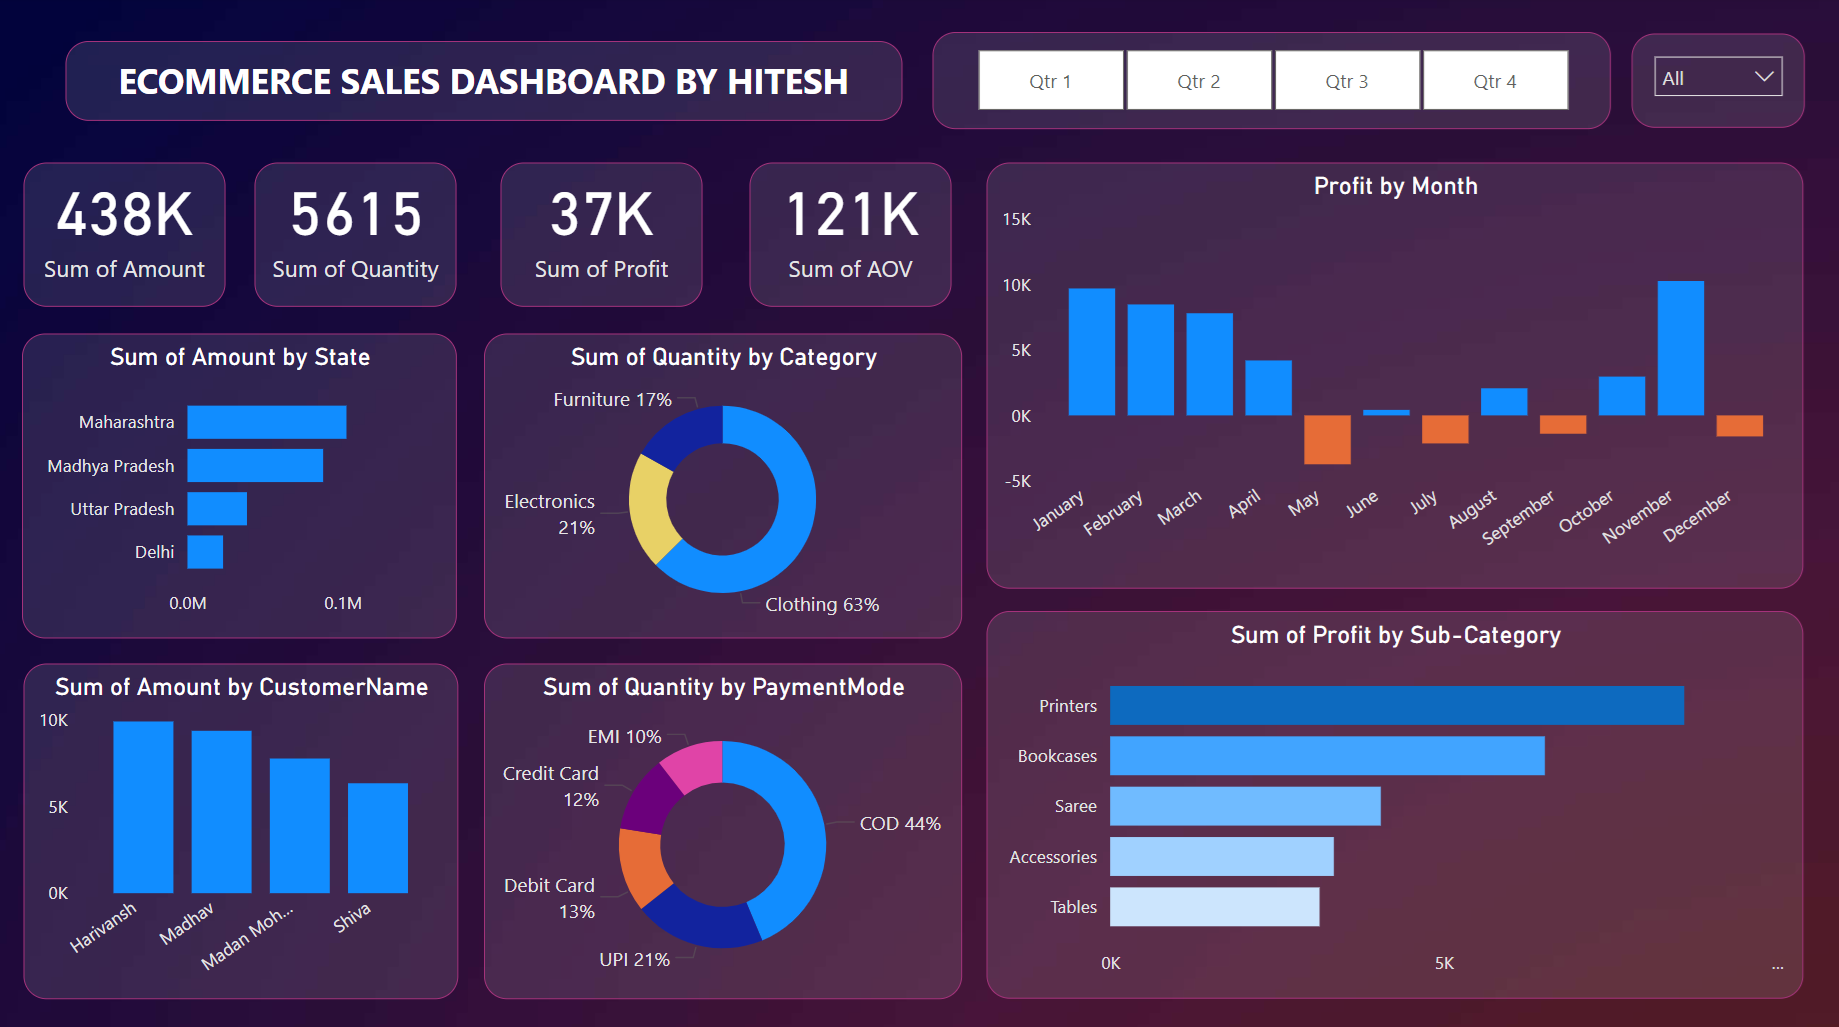

The dashboard page shown, as its layout file describes it:
{"tool":"powerbi","page":{"name":"Page 1","canvas":[1280,720],"ordinal":0},"visuals":[{"type":"textbox","box":[48.8,31.2,580,55],"z":0},{"type":"columnChart","title":"Profit by Month","fields":{"Y":["Details.Profit"],"Category":["Orders.Order Date.Variation.Date Hierarchy.Month"]},"box":[687.5,115,566.2,295],"z":1000},{"type":"barChart","fields":{"Y":["Details.Profit"],"Category":["Details.Sub-Category"]},"box":[687.5,426.2,566.2,268.8],"z":2000},{"type":"donutChart","fields":{"Category":["Details.Category"],"Y":["Details.Quantity"]},"box":[338.8,233.8,331.2,211.2],"z":3000},{"type":"donutChart","fields":{"Category":["Details.PaymentMode"],"Y":["Details.Quantity"]},"box":[338.8,462.5,331.2,232.5],"z":4000},{"type":"card","fields":{"Values":["Details.Amount"]},"box":[20,115,140,100],"z":5000},{"type":"card","fields":{"Values":["Details.Quantity"]},"box":[180,115,140,100],"z":6000},{"type":"card","fields":{"Values":["Details.Profit"]},"box":[350,115,140,100],"z":7000},{"type":"card","fields":{"Values":["Details.AOV"]},"box":[522.5,115,140,100],"z":8000},{"type":"barChart","fields":{"Y":["Details.Amount"],"Category":["Orders.State"]},"box":[18.8,233.8,301.2,211.2],"z":9000},{"type":"columnChart","fields":{"Category":["Orders.CustomerName"],"Y":["Details.Amount"]},"box":[20,462.5,301.2,232.5],"z":10000},{"type":"slicer","fields":{"Values":["Orders.Order Date.Variation.Date Hierarchy.Quarter"]},"box":[650,25,470,67.5],"z":11000},{"type":"slicer","fields":{"Values":["Orders.State"]},"box":[1133.8,26.2,120,65],"z":12000}]}

Visuals, with their boxes in screenshot pixels (x1, y1, x2, y2), scaled from the page's 1280x720 canvas onto the 1839x1027 screenshot:
textbox: [left=70, top=45, right=903, bottom=123]
"Profit by Month" columnChart: [left=988, top=164, right=1801, bottom=585]
barChart - Details.Profit x Details.Sub-Category: [left=988, top=608, right=1801, bottom=991]
donutChart - Details.Category x Details.Quantity: [left=487, top=333, right=963, bottom=635]
donutChart - Details.PaymentMode x Details.Quantity: [left=487, top=660, right=963, bottom=991]
card - Details.Amount: [left=29, top=164, right=230, bottom=307]
card - Details.Quantity: [left=259, top=164, right=460, bottom=307]
card - Details.Profit: [left=503, top=164, right=704, bottom=307]
card - Details.AOV: [left=751, top=164, right=952, bottom=307]
barChart - Details.Amount x Orders.State: [left=27, top=333, right=460, bottom=635]
columnChart - Orders.CustomerName x Details.Amount: [left=29, top=660, right=461, bottom=991]
slicer - Orders.Order Date.Variation.Date Hierarchy.Quarter: [left=934, top=36, right=1609, bottom=132]
slicer - Orders.State: [left=1629, top=37, right=1801, bottom=130]
